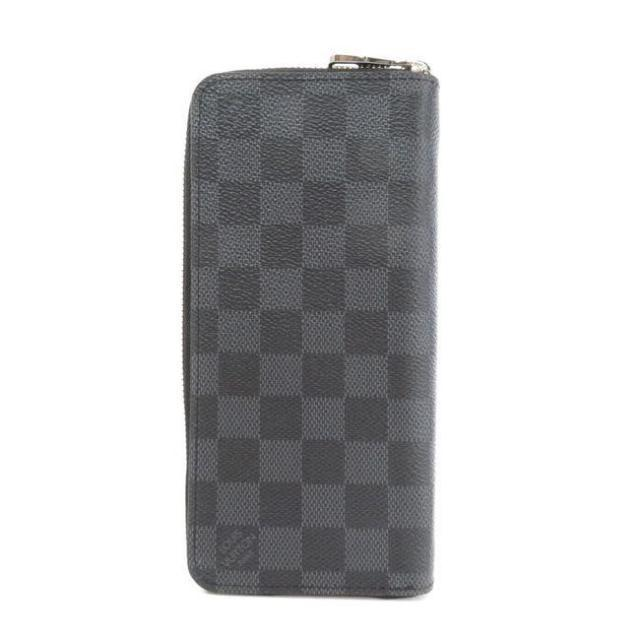Wallet: (179, 60, 437, 598)
